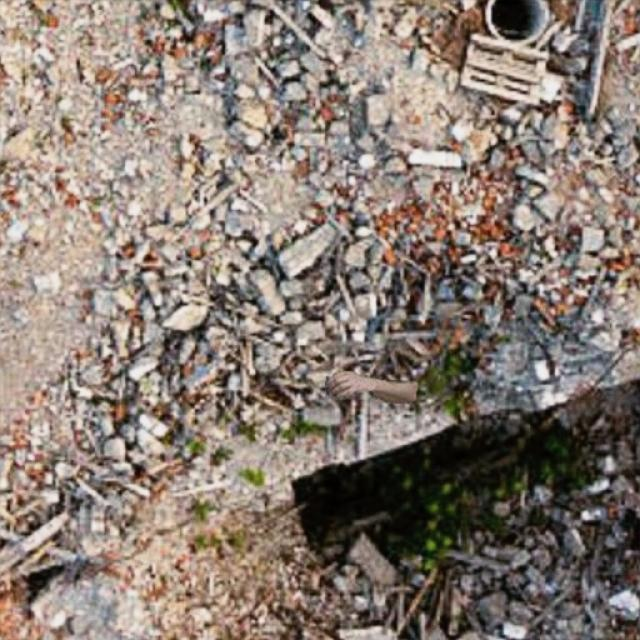Person in Rubble: (325, 371, 416, 404)
